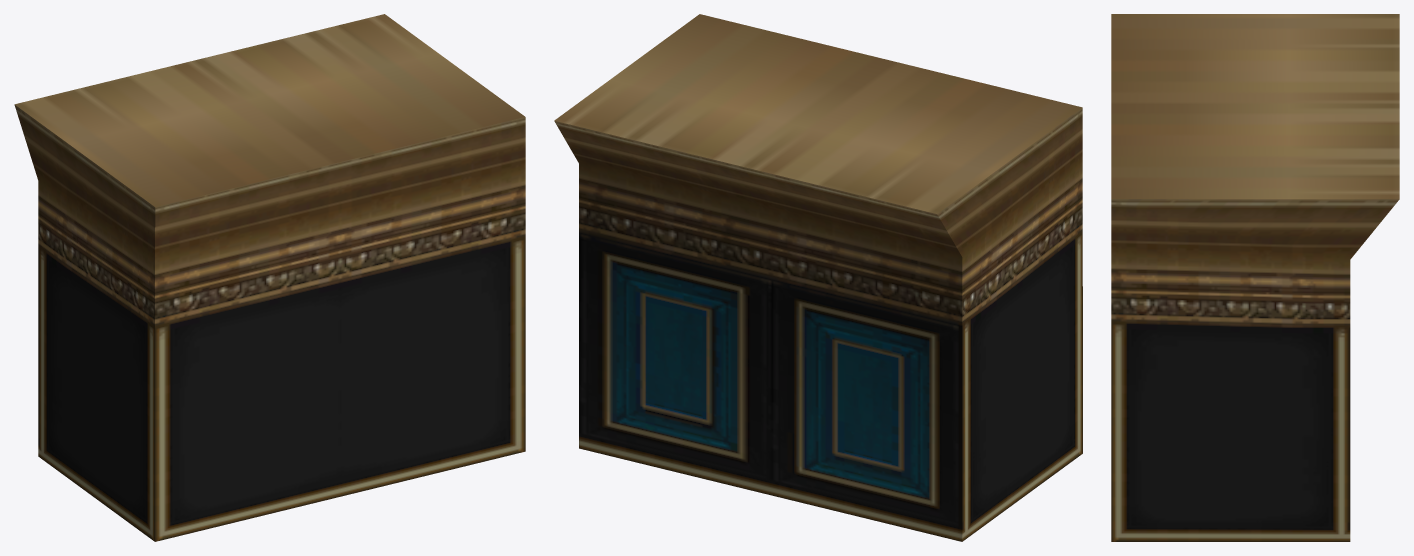
Rendered from furni_0200321_02.FBX.
The picture shows the model from 3 angles, left to right: view 1: azimuth 30°, elevation 25°; view 2: azimuth 150°, elevation 25°; view 3: azimuth 270°, elevation 25°; orthographic projection. The views are drawn at different scales.
Parts seen in each view (by area): view 1: furni_0200321_02; view 2: furni_0200321_02; view 3: furni_0200321_02.
Boxes of the visible parts, box(x1,y1,x2,y2) form: furni_0200321_02: box(14, 14, 525, 541); furni_0200321_02: box(554, 14, 1082, 541); furni_0200321_02: box(1111, 14, 1399, 541).
Bounding box in the file's own units: 81.43 × 70.29 × 53.58.
